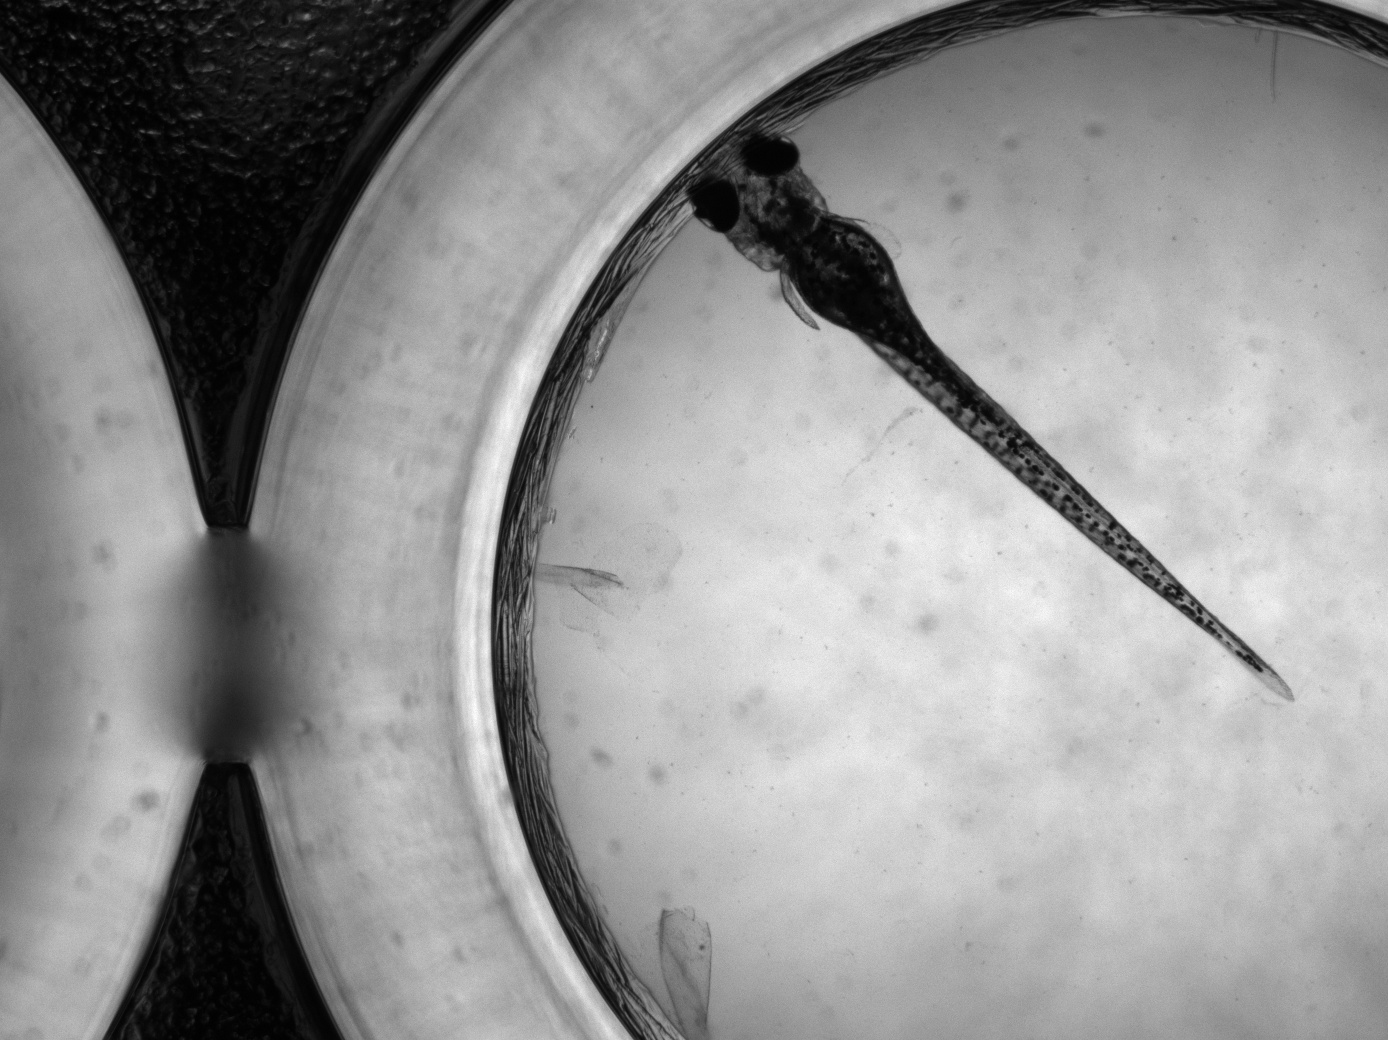embryo: (685, 129, 1293, 701)
eye: (688, 175, 740, 233), (740, 131, 799, 176)
yolksac: (790, 221, 899, 327)
